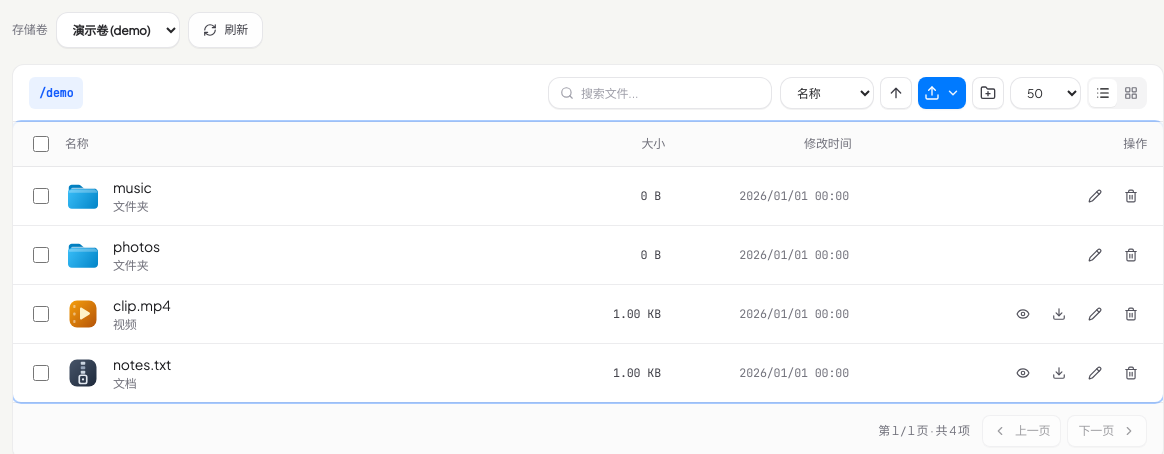
Test: FilesView 键盘操作 › 搜索框输入后只保留匹配项，Esc 清空搜索并回到列表
Click the search field with placeholder "搜索文件..." at (660, 93), box [548,77,772,109]
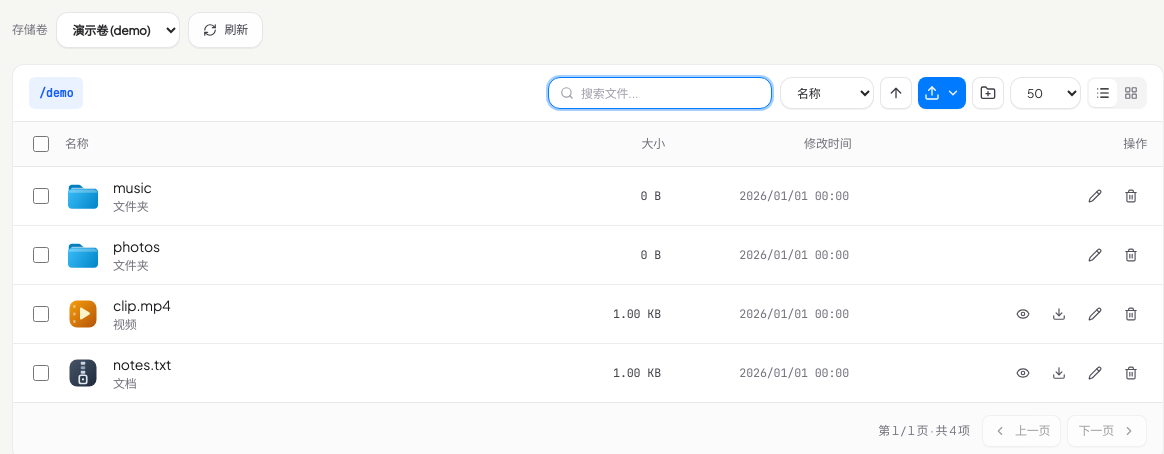
Type keys "clip"
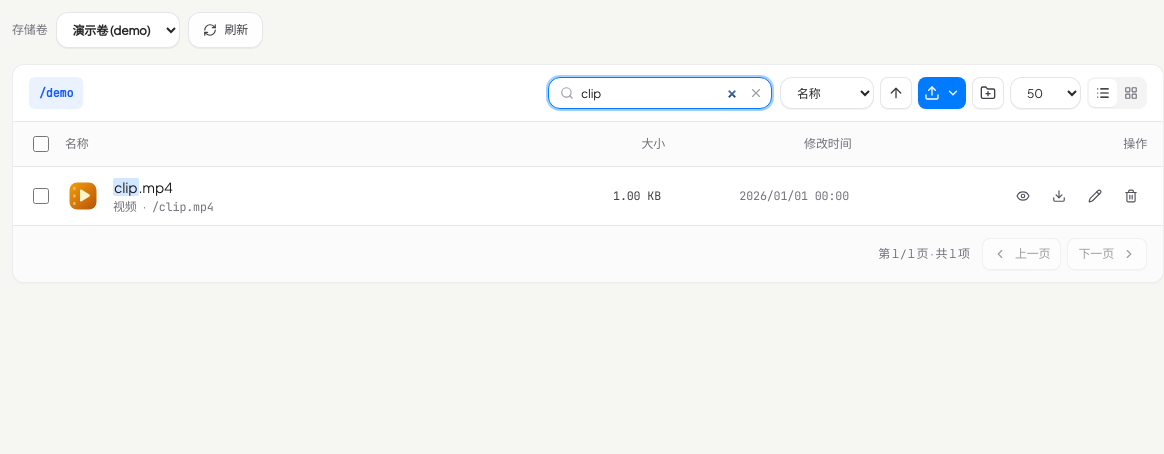
Expected: the element named "名称" shows "clip.mp4", [152,199,214,215]
Expected: the button "notes.txt" no longer shows "notes.txt"
Press Escape
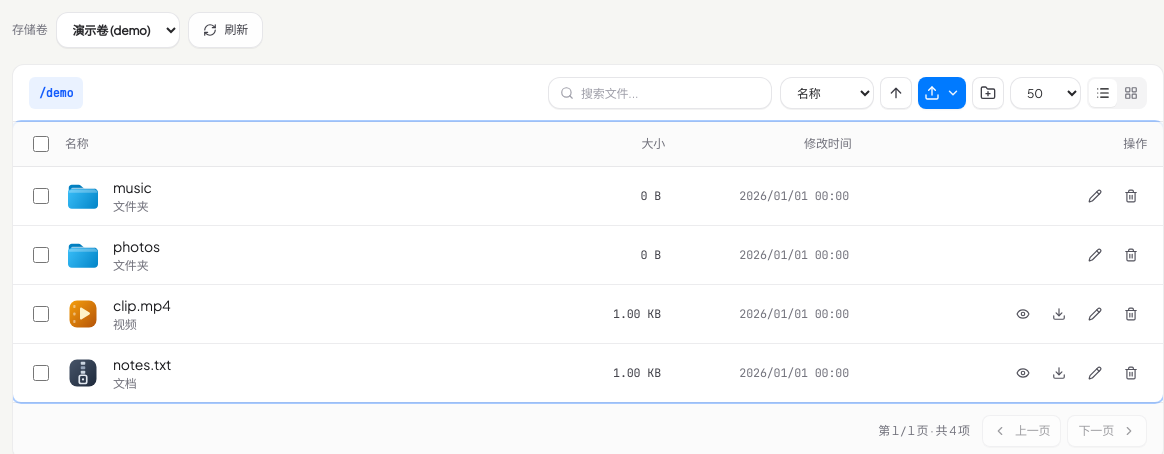
Expected: the search field with placeholder "搜索文件..." is empty, [548,77,772,109]
Expected: the element named "名称" shows "notes.txt", [113,354,489,374]
